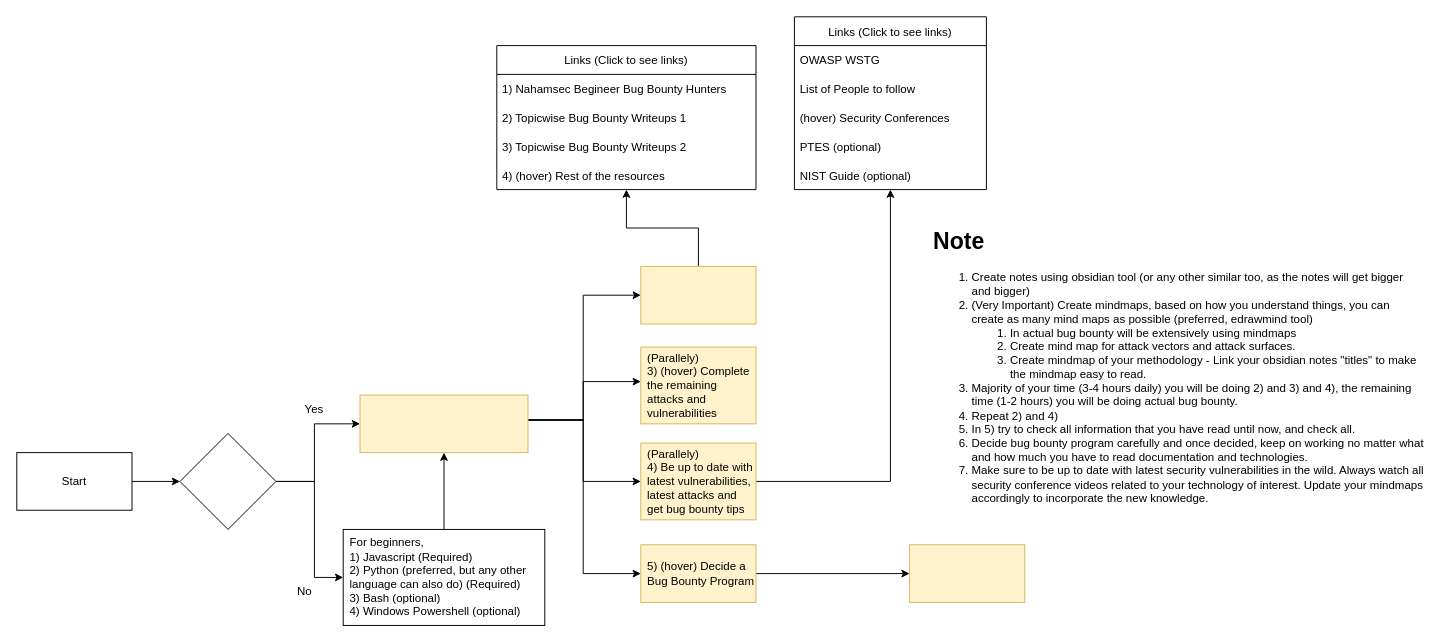
Image size: 1445x642. Some labels were removed from this diagram. Here are the shapes that lost their labels. From the top down, the box of each, then its label:
(640, 265, 756, 324): (Parallely) 2) Start Reading Bug Bounty Writeups
(359, 394, 528, 453): 1) Portswigger Academy (https://portswigger.net/web-security/dashboard)
(179, 432, 276, 529): Have programming background
(909, 544, 1025, 602): 6) Give atleast 15 days to one program (until you get confortable)
